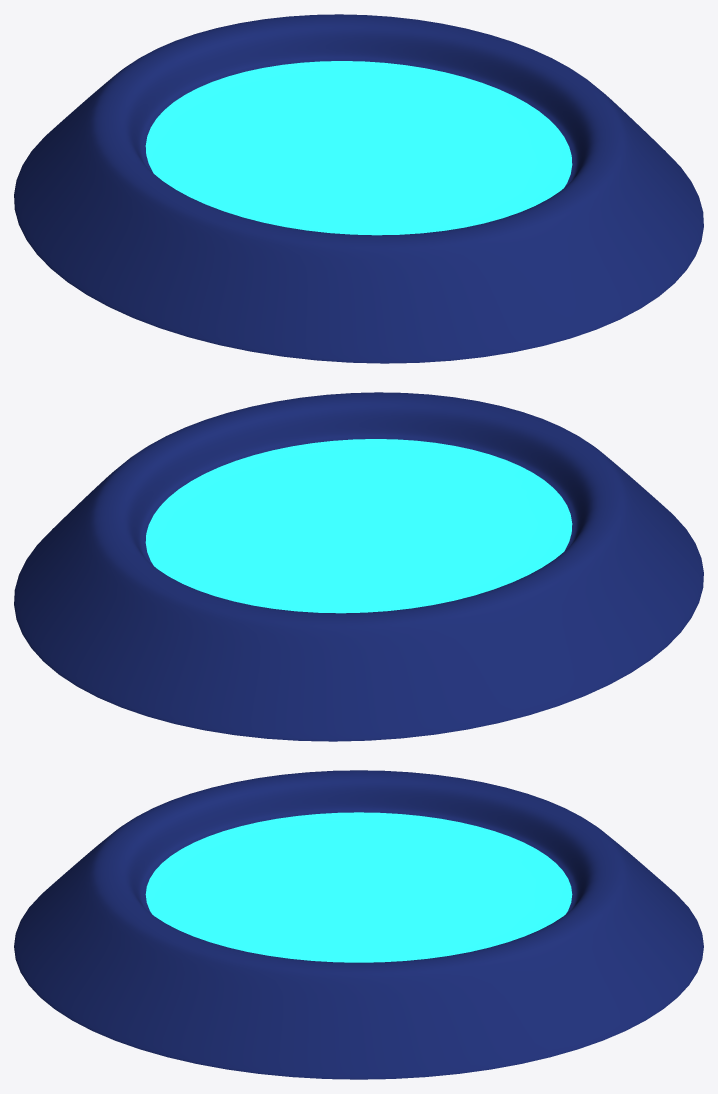
Rendered from FinishPad.glb.
3 views of the same model, one above another, from view 1: azimuth 30°, elevation 25°; view 2: azimuth 150°, elevation 25°; view 3: azimuth 270°, elevation 25° (orthographic). The views are drawn at different scales.
Parts seen in each view (by area): view 1: FinishPad-col; view 2: FinishPad-col; view 3: FinishPad-col.
Part boxes in pixels (box(x1,y1,x2,y2)): FinishPad-col: box(14, 14, 703, 363); FinishPad-col: box(14, 392, 703, 741); FinishPad-col: box(14, 770, 703, 1079).
Size of the model in its own units: 1.01 by 0.1369 by 1.11.
